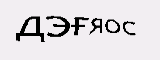Д: (12, 12, 46, 43)
О: (102, 10, 121, 36)
С: (122, 12, 140, 41)
Э: (46, 9, 70, 40)
Я: (86, 10, 103, 38)
Ғ: (70, 12, 89, 37)
